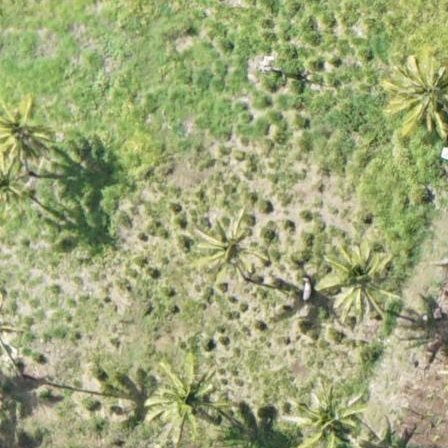palm_tree: (143, 353, 225, 437), (316, 229, 396, 315), (383, 58, 448, 141), (288, 391, 359, 448), (195, 211, 257, 275), (1, 98, 41, 161)
